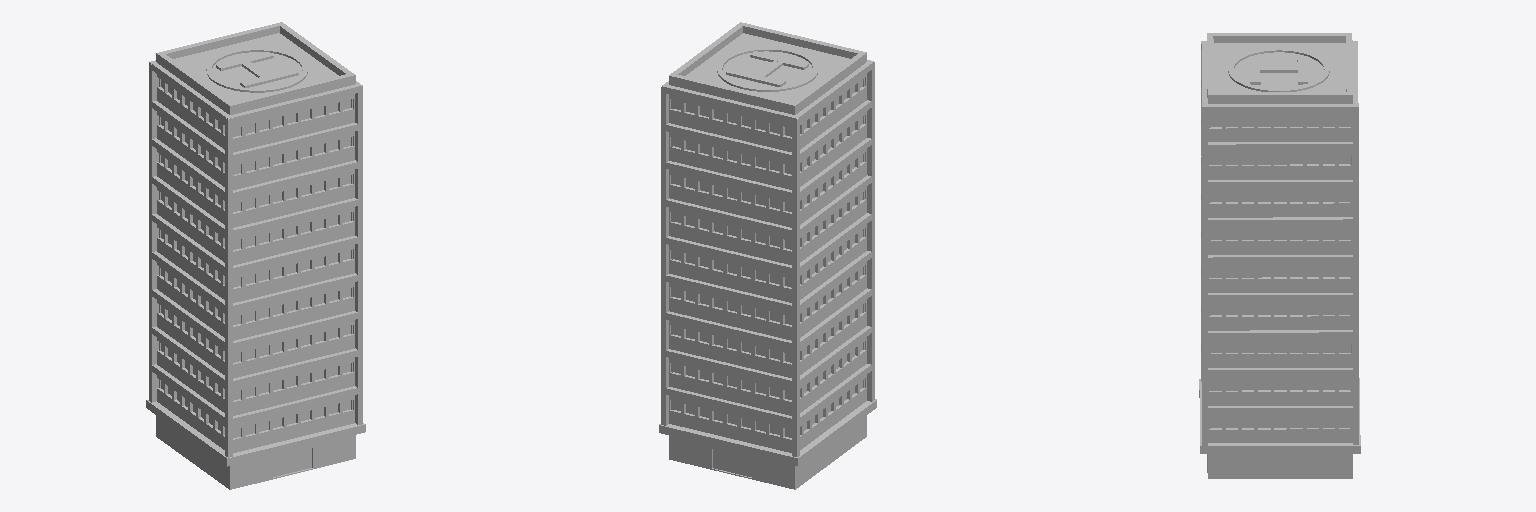
The model's file is torre_helicoptero.obj.
3 views of the same model, side by side, from view 1: azimuth 30°, elevation 25°; view 2: azimuth 150°, elevation 25°; view 3: azimuth 270°, elevation 25° (orthographic).
Visible parts, largest first — view 1: Plane_011, Object014, Plane_009, Cube_275, Plane_005, Object015, Cylinder_010; view 2: Plane_011, Object014, Plane_009, Cube_275, Plane_005, Object015, Cylinder_010; view 3: Plane_011, Object014, Plane_009, Cube_275, Plane_005, Object015, Cylinder_010.
Boxes of the visible parts, box(x1,y1,x2,y2) form: Plane_011: box(150, 60, 362, 452); Object014: box(149, 62, 361, 437); Plane_009: box(156, 22, 355, 114); Cube_275: box(149, 63, 362, 457); Plane_005: box(147, 400, 364, 489); Object015: box(146, 400, 365, 466); Cylinder_010: box(206, 48, 307, 92); Plane_011: box(662, 60, 873, 452); Object014: box(662, 62, 873, 437); Plane_009: box(669, 22, 866, 114); Cube_275: box(661, 62, 874, 456); Plane_005: box(659, 399, 876, 489); Object015: box(659, 400, 876, 476); Cylinder_010: box(717, 47, 817, 91); Plane_011: box(1201, 41, 1358, 442); Object014: box(1201, 44, 1352, 427); Plane_009: box(1207, 33, 1352, 103); Cube_275: box(1201, 50, 1358, 445); Plane_005: box(1199, 378, 1360, 478); Object015: box(1199, 390, 1360, 453); Cylinder_010: box(1228, 48, 1329, 91).
Bounding box in the file's own units: 12.21 × 32.05 × 12.21.